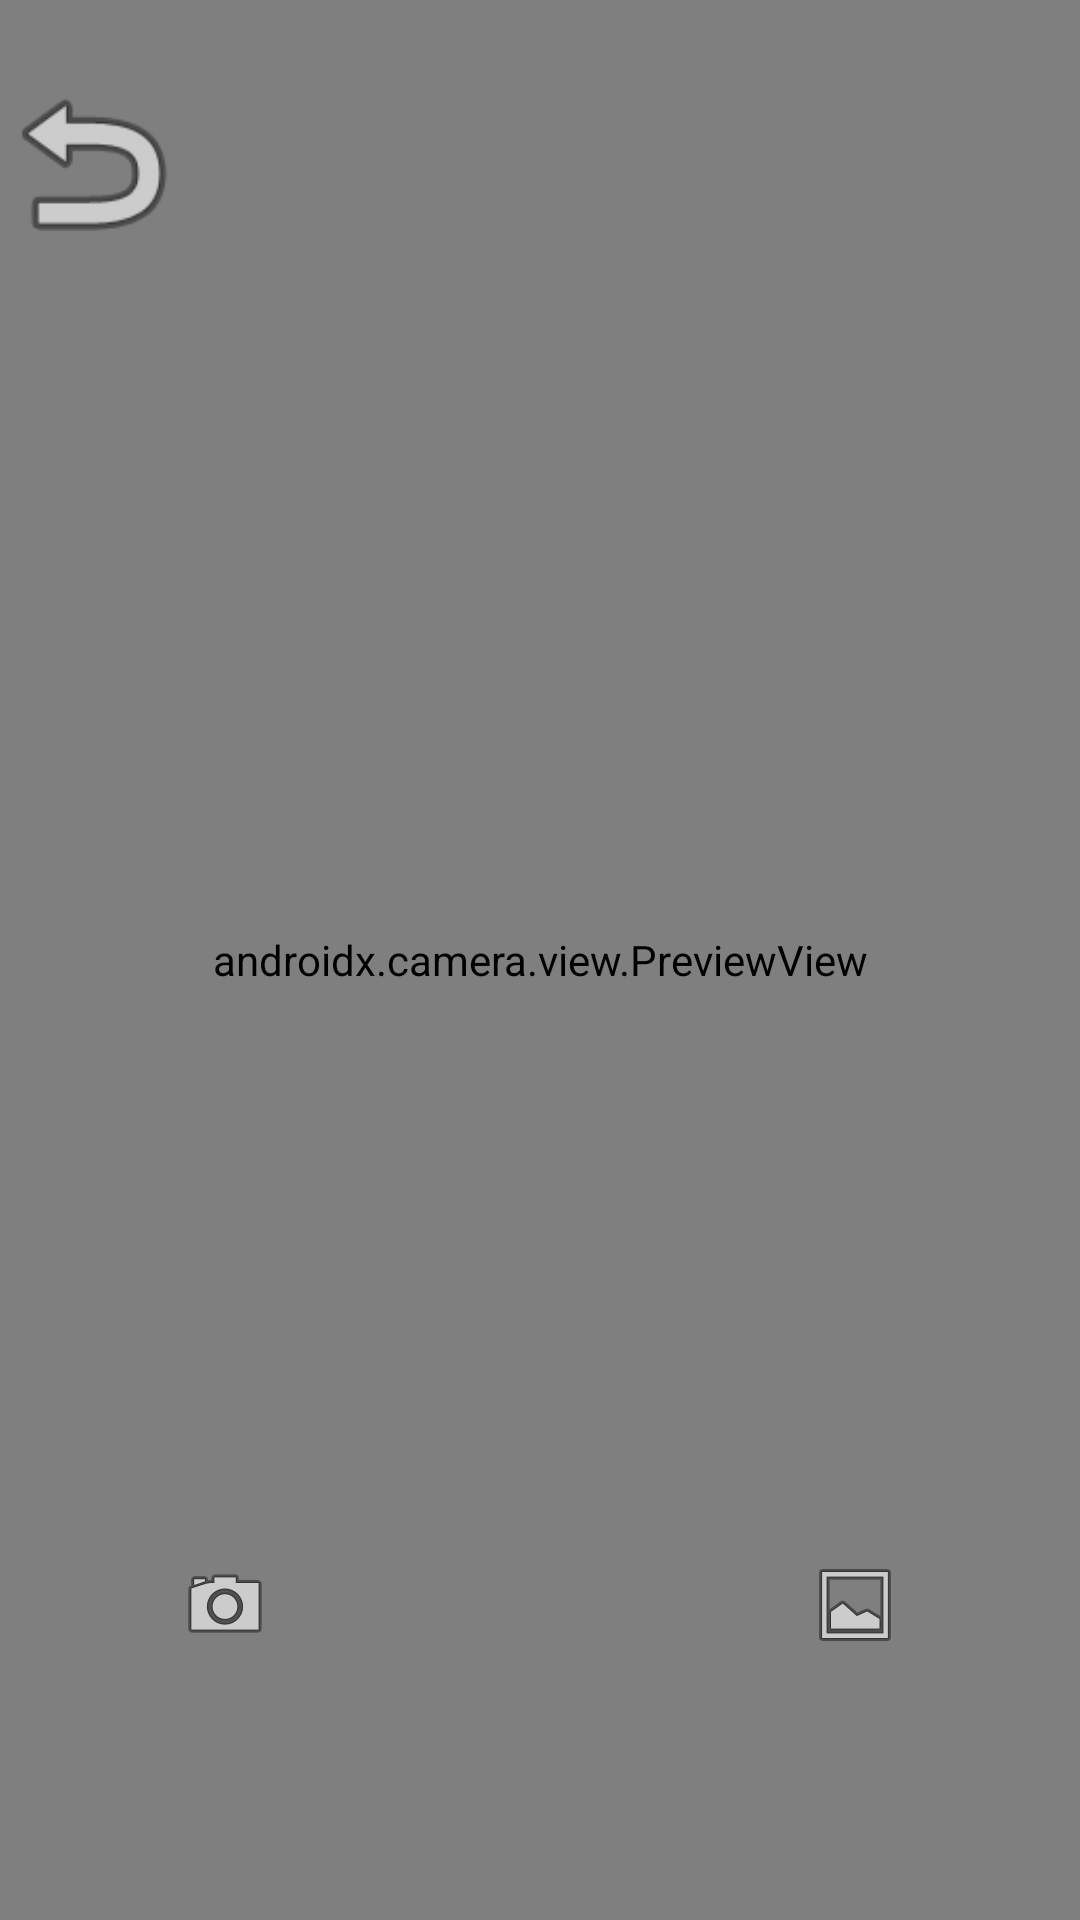

Icons on this 1080 x 1920 Android screen, each with its box as [left=x1, top=y1, right=x2, bottom=y2]:
gallery: [left=819, top=1569, right=891, bottom=1641]
revert: [left=22, top=100, right=166, bottom=230]
